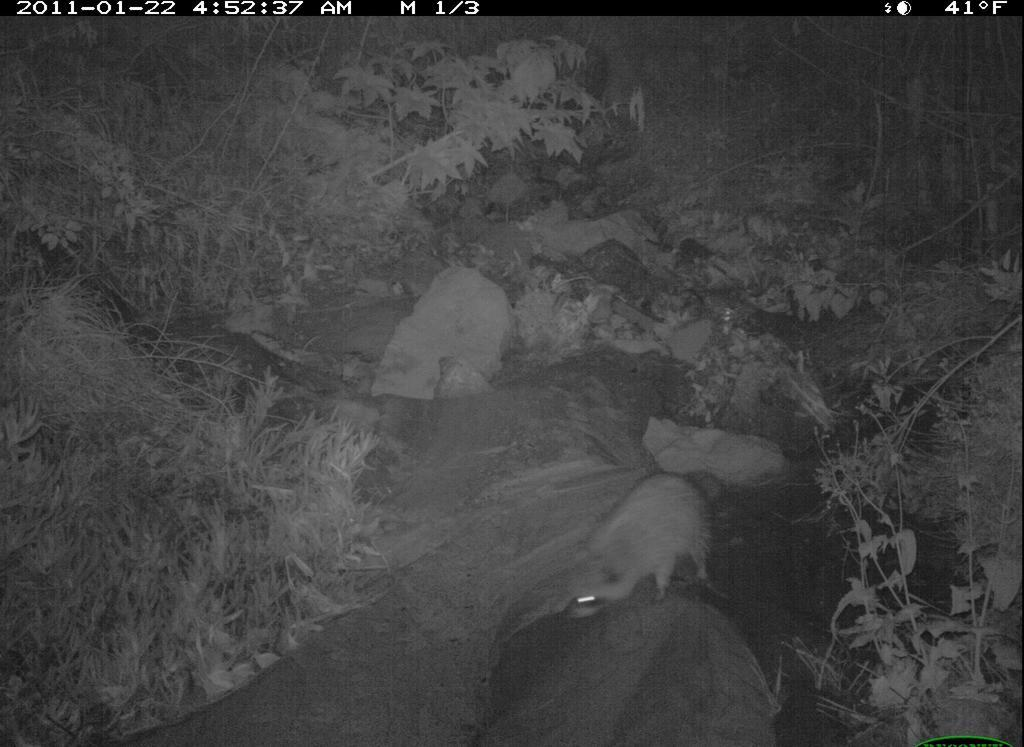raccoon: (520, 463, 728, 629)
